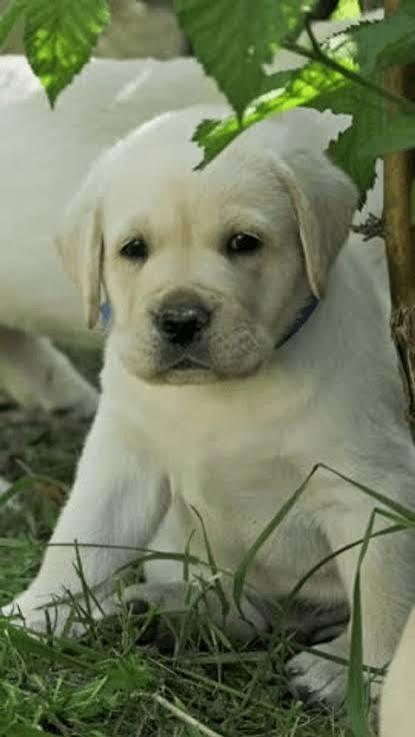adult_dog: (1, 42, 171, 429)
puppy-dog: (6, 102, 415, 732)
